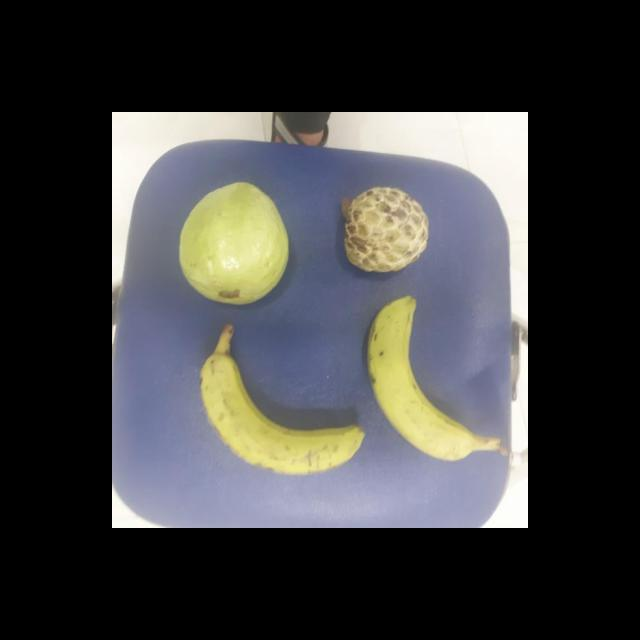Sakya fruit: (338, 187, 431, 272)
banana: (192, 352, 360, 475), (362, 296, 478, 464)
guava: (172, 184, 288, 305)
